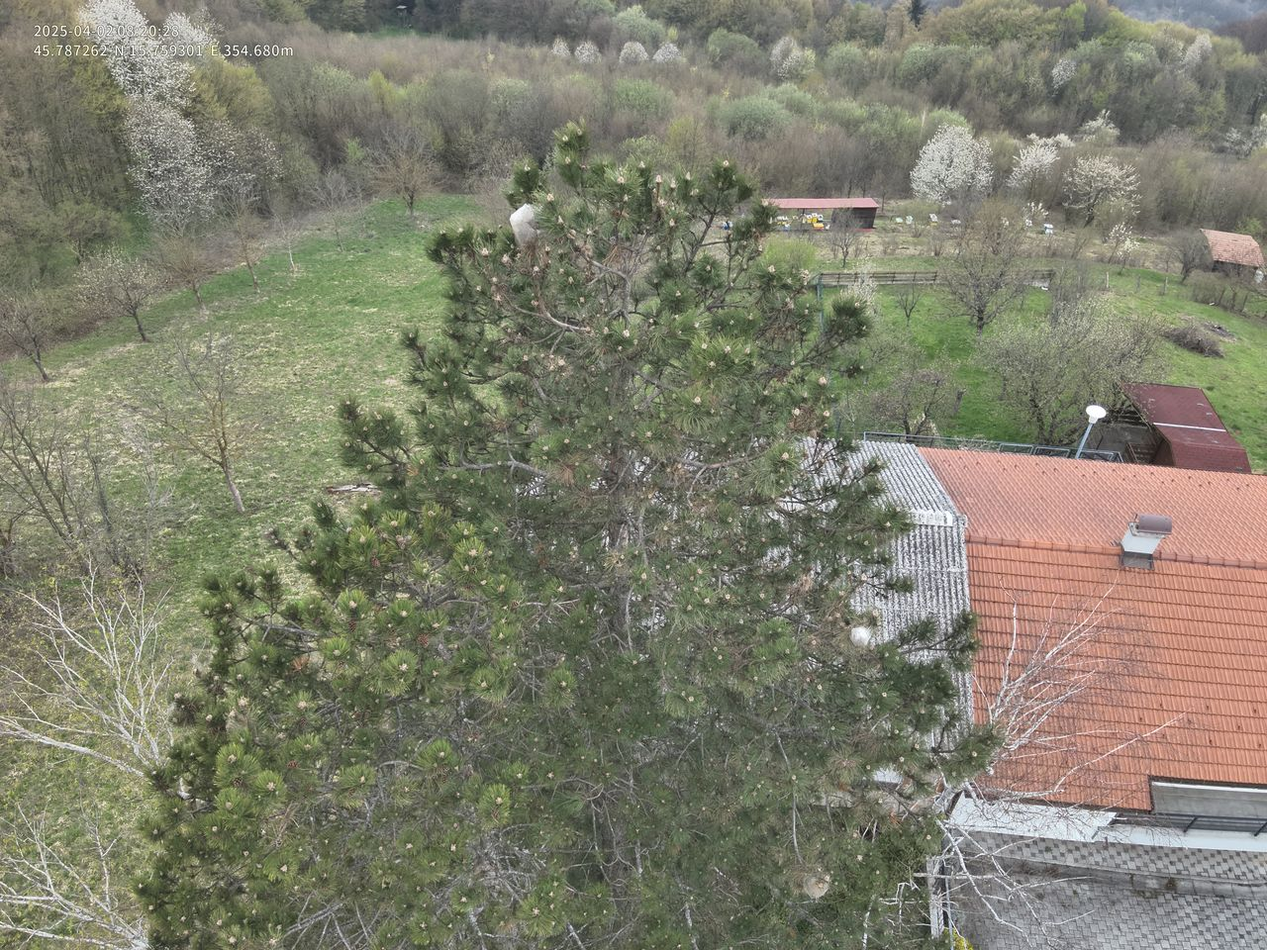thaumatopoea pityocampa jajno gnijezdo: (507, 203, 542, 253), (843, 619, 881, 657), (864, 787, 904, 821), (799, 868, 836, 902)
